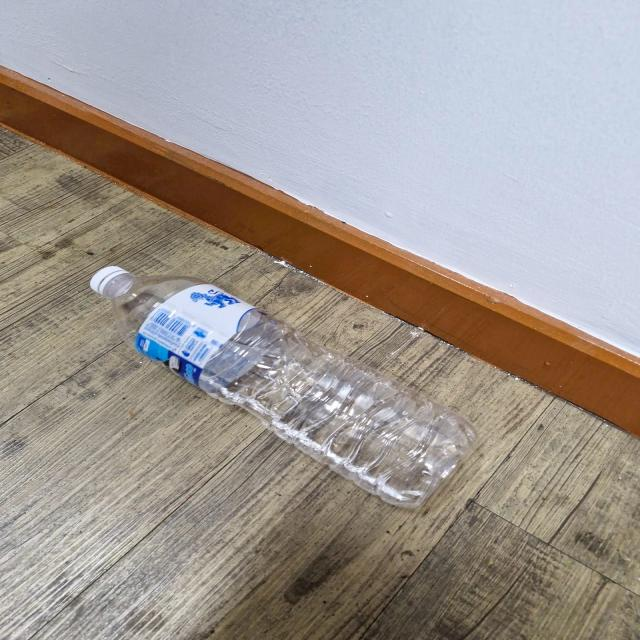plastic bottle: (92, 266, 480, 498)
